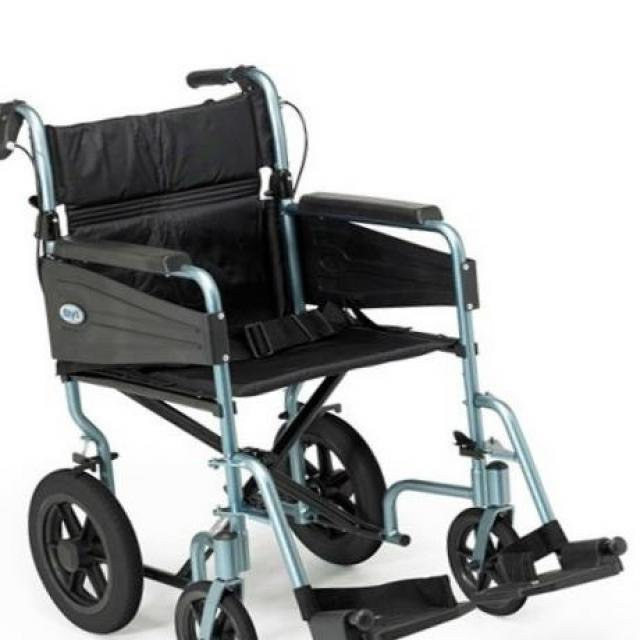wheelchair: (1, 59, 630, 639)
